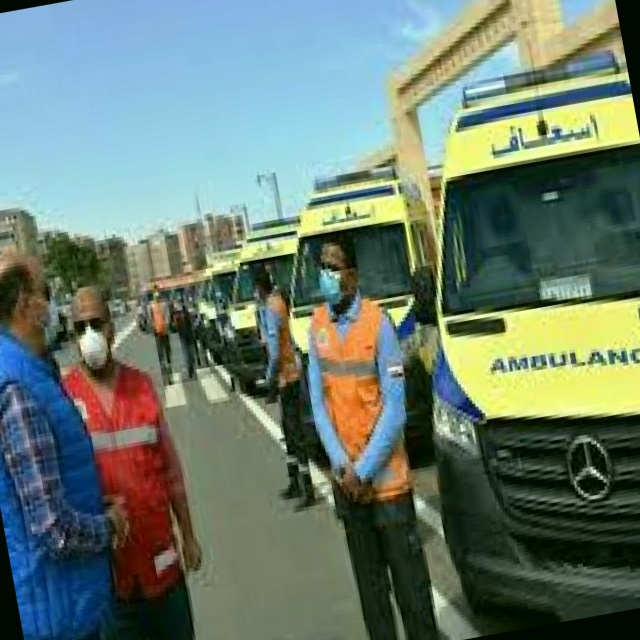Ambulance: (377, 29, 640, 637), (263, 164, 474, 473), (220, 190, 322, 404)
person: (283, 230, 457, 640), (35, 271, 227, 640), (0, 233, 164, 640)
